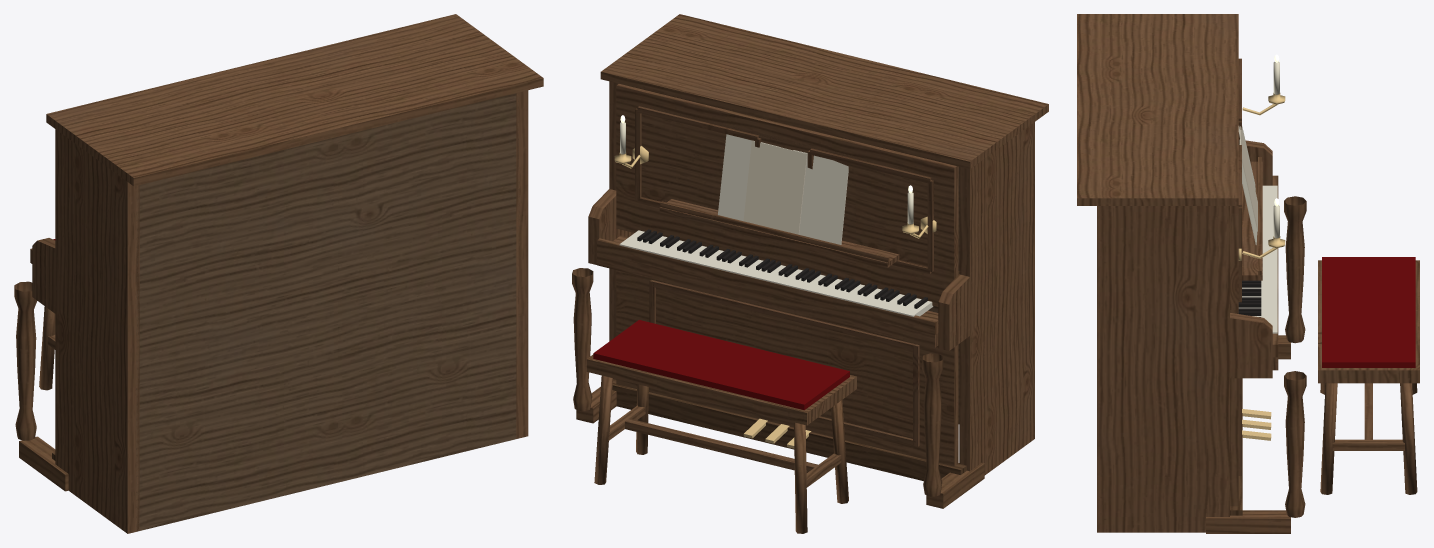
The model's file is instr_piano.lite.glb.
3 renders of one model, left to right at view 1: azimuth 30°, elevation 25°; view 2: azimuth 150°, elevation 25°; view 3: azimuth 270°, elevation 25°, orthographic. The views are drawn at different scales.
Parts seen in each view (by area): view 1: piano_wood; view 2: piano_wood, piano_felt, piano_paper, piano_ivory, piano_ebony, piano_brass; view 3: piano_wood, piano_felt, piano_ivory, piano_brass, piano_paper, piano_ebony.
Boxes of the visible parts, x1,y1,x2,y2 form: piano_wood: (14, 14, 543, 533); piano_wood: (572, 14, 1048, 533); piano_felt: (593, 320, 849, 410); piano_paper: (718, 134, 848, 244); piano_ivory: (619, 122, 933, 316); piano_ebony: (637, 229, 927, 308); piano_brass: (614, 146, 936, 448); piano_wood: (1077, 14, 1419, 533); piano_felt: (1322, 257, 1415, 367); piano_ivory: (1239, 62, 1279, 333); piano_brass: (1238, 93, 1285, 440); piano_paper: (1238, 126, 1257, 244); piano_ebony: (1238, 280, 1261, 317).
Size of the model in its own units: 1.54 by 1.31 by 1.21.
Materials: 7 (1 with a texture image).
